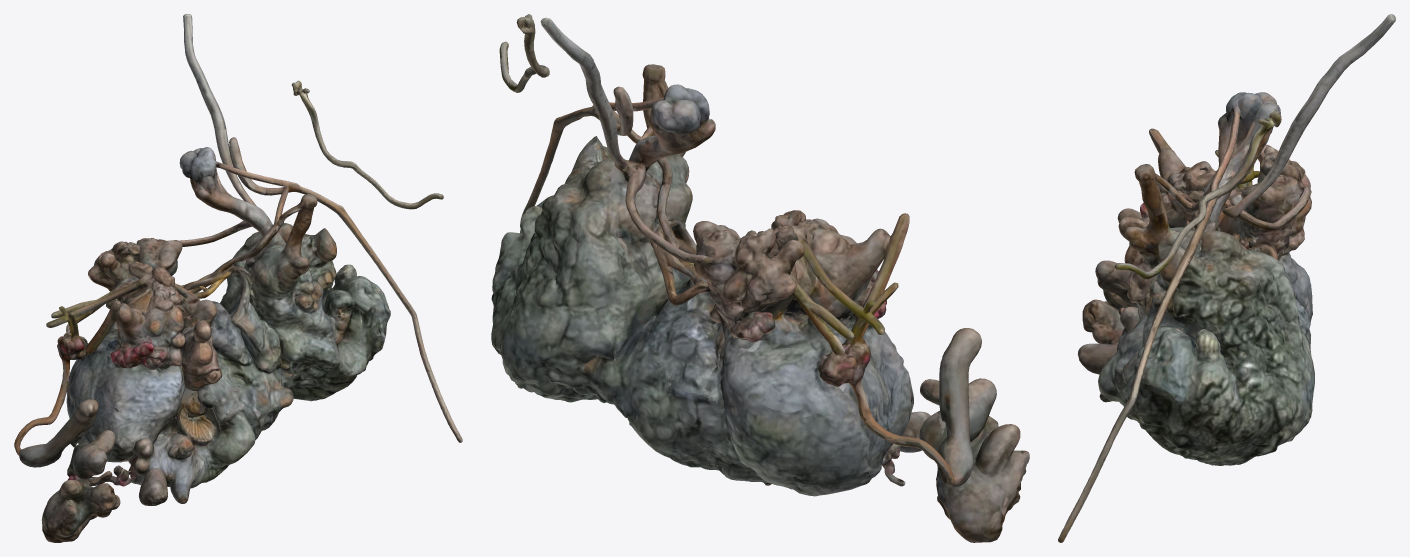
File: root-bank-v5.glb
The picture shows the model from 3 angles, left to right: view 1: azimuth 30°, elevation 25°; view 2: azimuth 150°, elevation 25°; view 3: azimuth 270°, elevation 25°; orthographic projection. The views are drawn at different scales.
Parts seen in each view (by area): view 1: geometry_0; view 2: geometry_0; view 3: geometry_0.
Boxes of the visible parts, x1=… form: geometry_0: x1=14, y1=14, x2=462, y2=542; geometry_0: x1=491, y1=14, x2=1029, y2=542; geometry_0: x1=1058, y1=14, x2=1395, y2=542.
Bounding box in the file's own units: 0.45 × 0.4499 × 0.2805.
1 material, 1 textured.
